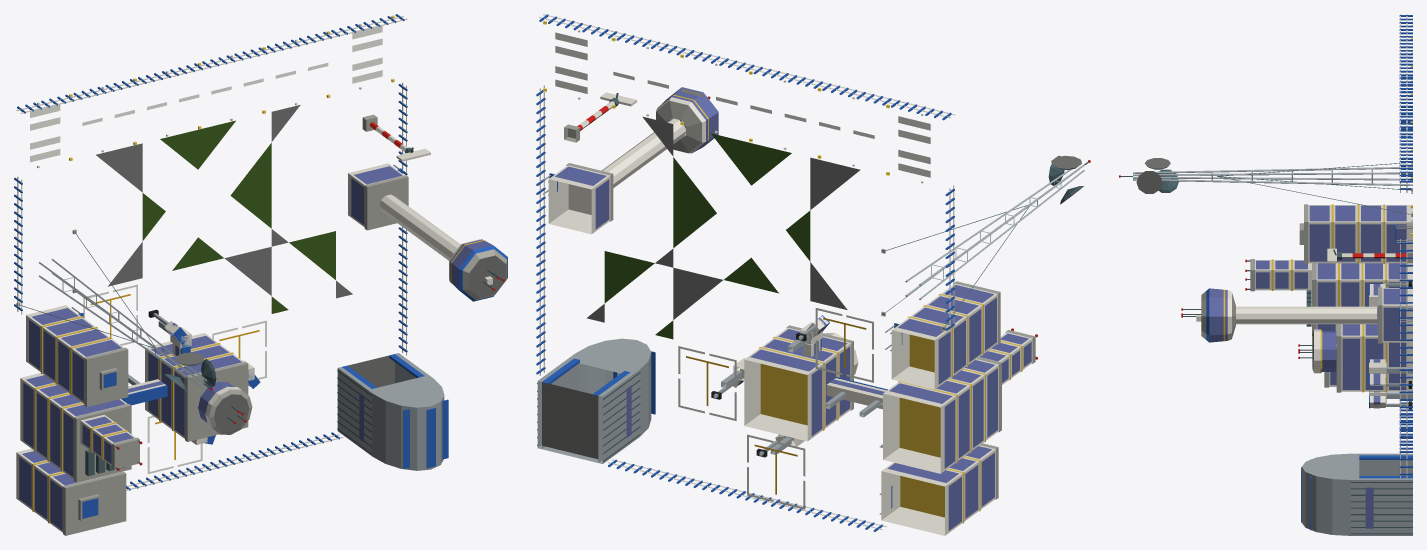
The picture shows the model from 3 angles, left to right: view 1: azimuth 30°, elevation 25°; view 2: azimuth 150°, elevation 25°; view 3: azimuth 270°, elevation 25°; orthographic projection. The views are drawn at different scales.
Parts seen in each view (by area): view 1: t5_0_g24, t0_1_g19, t2_1_g21, t5_3_g20, t0_2_g22, t0_0_g23, t0_3_g32, t4_2_g12, t3_3_g9, t2_4_g7, t0_5_g18, t5_5_g18 (+14 smaller); view 2: t5_0_g24, t0_1_g19, t2_1_g21, t5_3_g20, t0_2_g22, t0_0_g23, t0_3_g32, t4_2_g12, t3_3_g9, t2_0_g25, t2_4_g7, t0_5_g18 (+15 smaller); view 3: t5_0_g24, t5_3_g20, t0_2_g22, t0_1_g19, t2_1_g21, t0_3_g32, t5_4_g31, t2_0_g25, t3_1_g26, t5_2_g13, t5_1_g2, t2_2_g27.
Part boxes in pixels (x1=…): t5_0_g24: x1=337, y1=353, x2=448, y2=470; t0_1_g19: x1=20, y1=373, x2=142, y2=482; t2_1_g21: x1=145, y1=333, x2=252, y2=441; t5_3_g20: x1=348, y1=150, x2=507, y2=301; t0_2_g22: x1=26, y1=305, x2=128, y2=406; t0_0_g23: x1=16, y1=448, x2=126, y2=535; t0_3_g32: x1=14, y1=229, x2=216, y2=391; t4_2_g12: x1=271, y1=231, x2=335, y2=313; t3_3_g9: x1=207, y1=179, x2=271, y2=262; t2_4_g7: x1=142, y1=127, x2=207, y2=210; t0_5_g18: x1=16, y1=92, x2=85, y2=167; t5_5_g18: x1=339, y1=14, x2=407, y2=89; t5_0_g24: x1=537, y1=338, x2=655, y2=463; t0_1_g19: x1=879, y1=328, x2=1037, y2=473; t2_1_g21: x1=744, y1=325, x2=858, y2=441; t5_3_g20: x1=536, y1=87, x2=718, y2=234; t0_2_g22: x1=885, y1=281, x2=1000, y2=389; t0_0_g23: x1=879, y1=443, x2=998, y2=535; t0_3_g32: x1=881, y1=155, x2=1090, y2=331; t4_2_g12: x1=604, y1=251, x2=673, y2=339; t3_3_g9: x1=673, y1=196, x2=741, y2=284; t2_0_g25: x1=745, y1=434, x2=817, y2=515; t2_4_g7: x1=741, y1=141, x2=810, y2=228; t0_5_g18: x1=882, y1=97, x2=955, y2=183; t5_0_g24: x1=1301, y1=453, x2=1412, y2=535; t5_3_g20: x1=1181, y1=287, x2=1412, y2=358; t0_2_g22: x1=1299, y1=204, x2=1412, y2=264; t0_1_g19: x1=1245, y1=259, x2=1412, y2=335; t2_1_g21: x1=1298, y1=317, x2=1412, y2=392; t0_3_g32: x1=1119, y1=136, x2=1412, y2=216; t5_4_g31: x1=1327, y1=239, x2=1412, y2=299; t2_0_g25: x1=1369, y1=391, x2=1412, y2=449; t3_1_g26: x1=1369, y1=359, x2=1412, y2=388; t5_2_g13: x1=1399, y1=359, x2=1412, y2=418; t5_1_g2: x1=1399, y1=418, x2=1412, y2=478; t2_2_g27: x1=1369, y1=281, x2=1412, y2=317.
Bounding box in the file's own units: 96 × 95.84 × 71.4.
